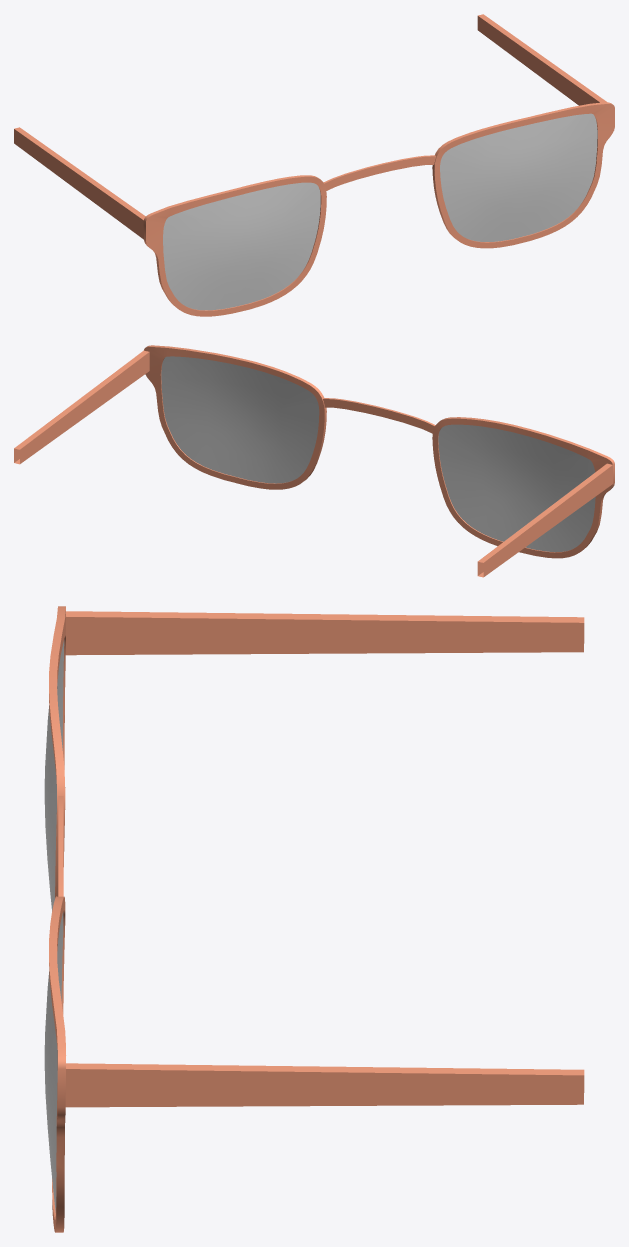
Rendered from PRADA Glasses Wide Optimized Cutoff.fbx.
3 renders of one model, top to bottom at view 1: azimuth 30°, elevation 25°; view 2: azimuth 150°, elevation 25°; view 3: azimuth 270°, elevation 25°, orthographic. The views are drawn at different scales.
Visible parts, largest first — view 1: PRADA Glasses Wide Optimized Cutoff; view 2: PRADA Glasses Wide Optimized Cutoff; view 3: PRADA Glasses Wide Optimized Cutoff.
Part boxes in pixels (x1,y1,x2,y2): PRADA Glasses Wide Optimized Cutoff: (14,14,614,316); PRADA Glasses Wide Optimized Cutoff: (14,345,614,577); PRADA Glasses Wide Optimized Cutoff: (44,606,584,1232).
Size of the model in its own units: 0.1874 by 0.0471 by 0.0933.
